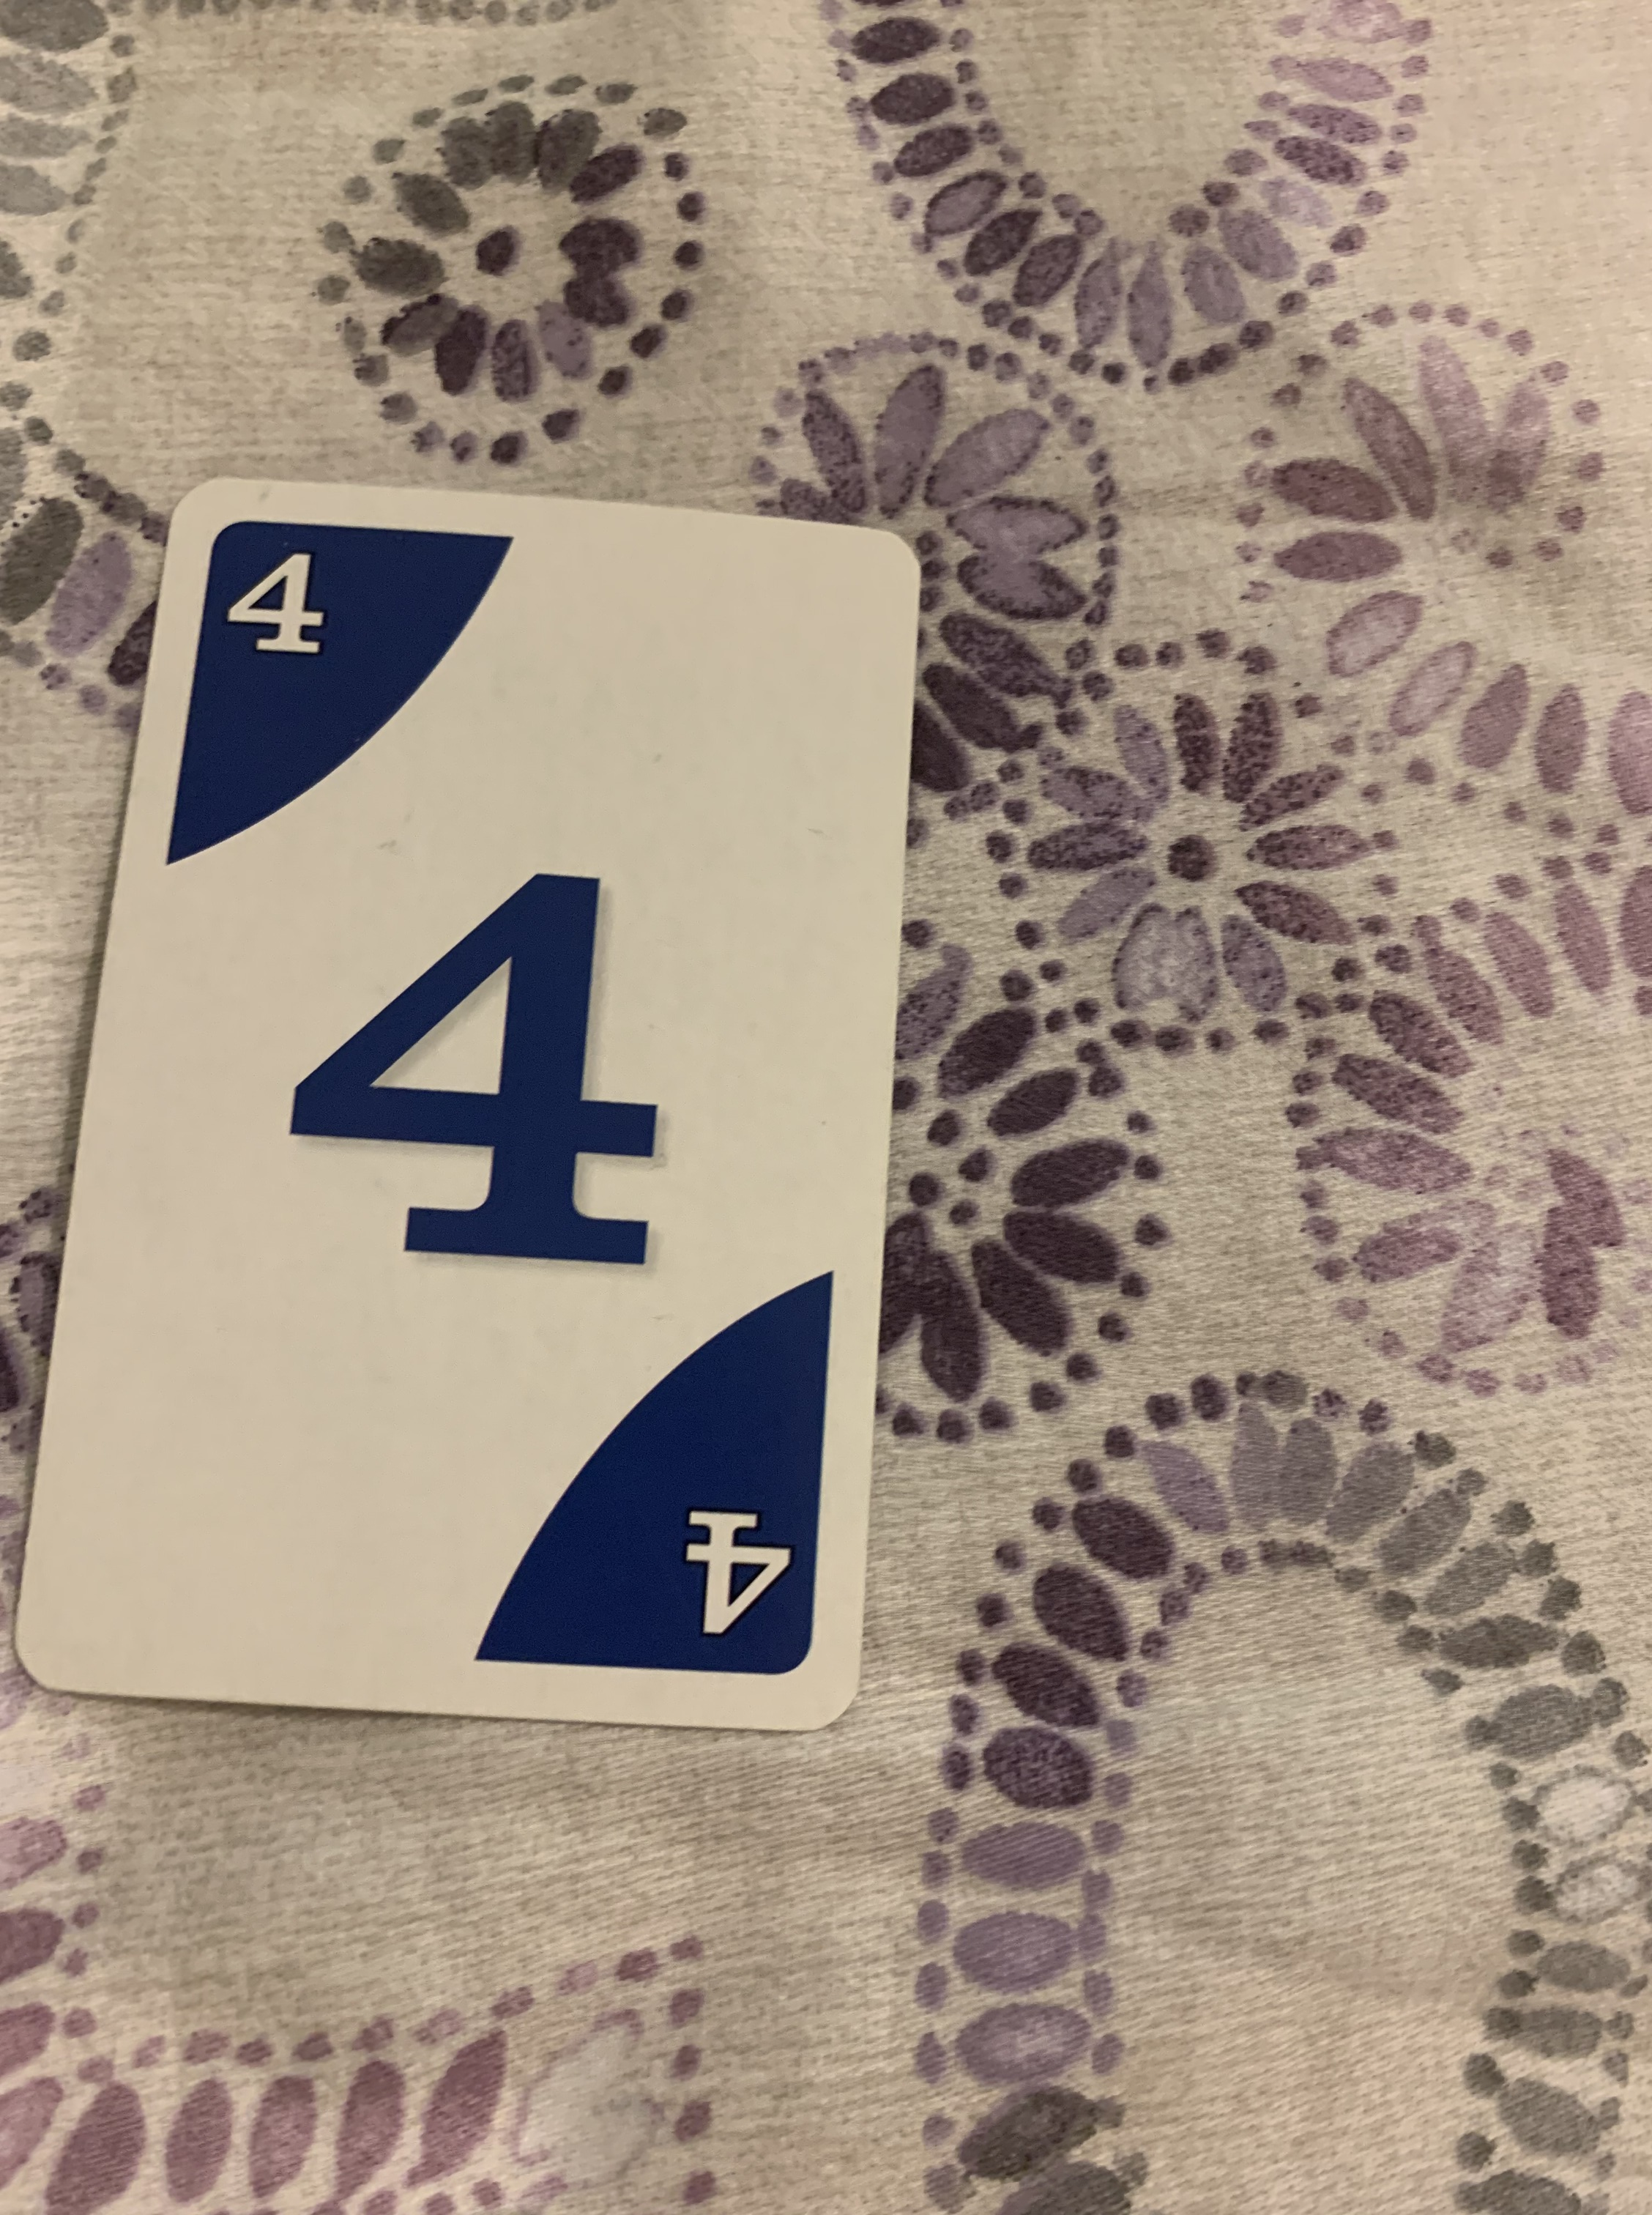four: (17, 472, 927, 1739)
